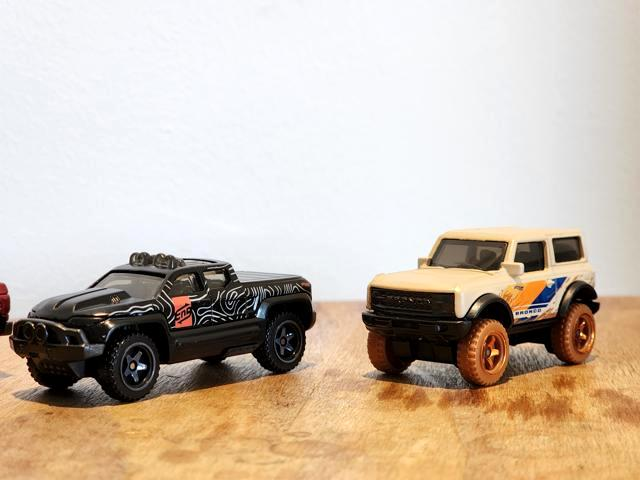toy-car: (9, 251, 317, 403), (360, 228, 600, 387)
